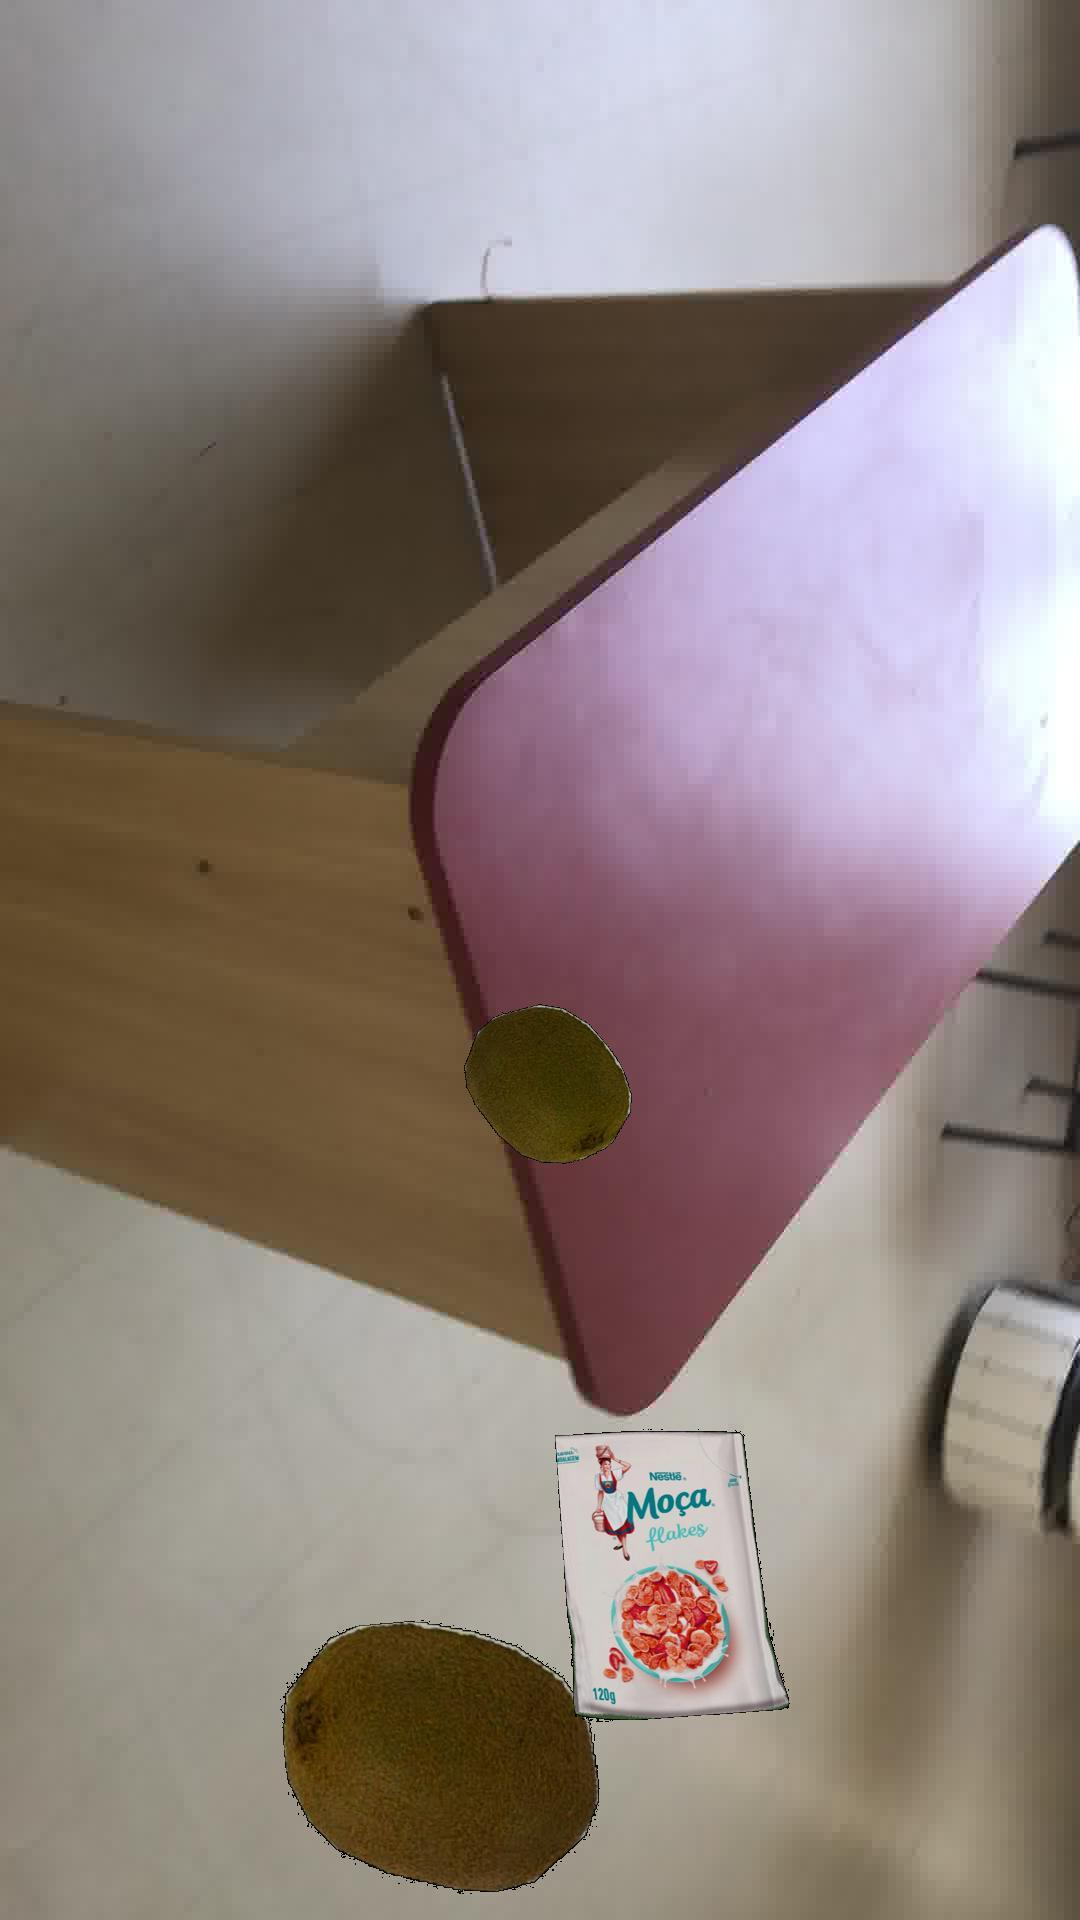corn flakes: (554, 1429, 787, 1721)
kiwi: (281, 1619, 599, 1892), (463, 1002, 630, 1163)
